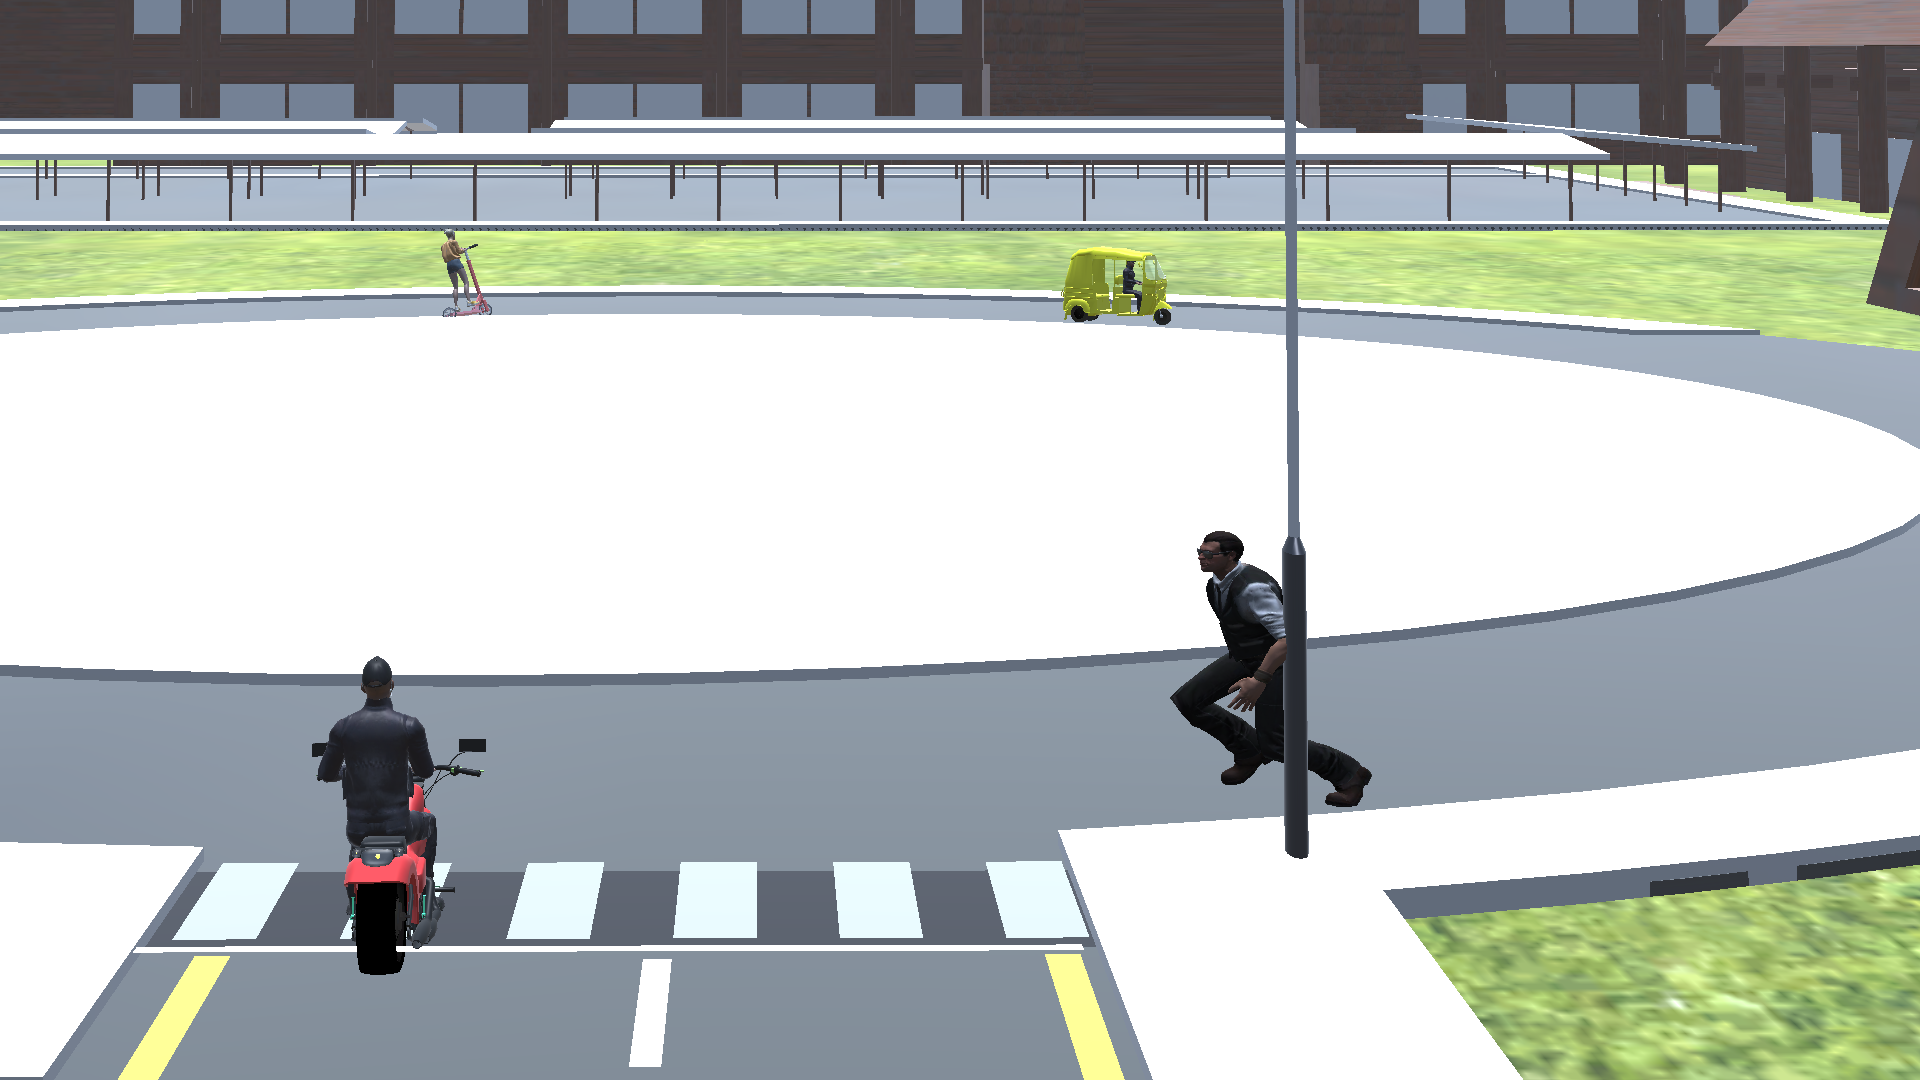pedestrian: (1172, 530, 1369, 810)
